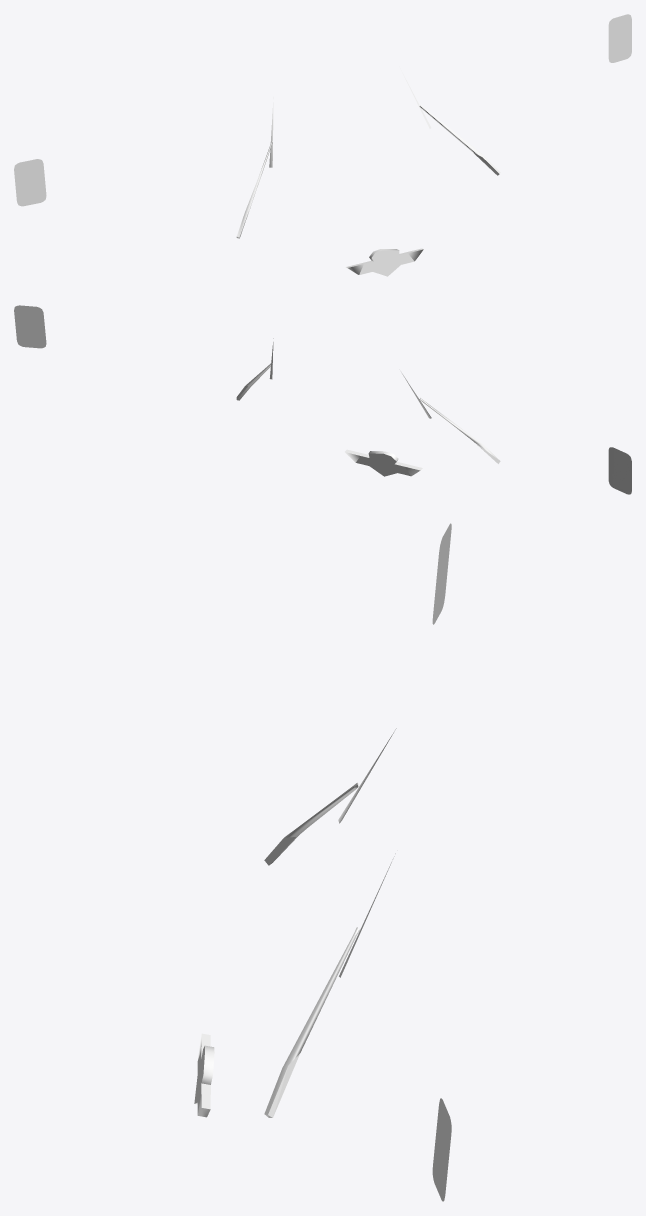
3 renders of one model, top to bottom at view 1: azimuth 30°, elevation 25°; view 2: azimuth 150°, elevation 25°; view 3: azimuth 270°, elevation 25°, orthographic. The views are drawn at different scales.
Size of the model in its own units: 3.1 by 0.7637 by 0.5586.
1 material, 1 textured.
